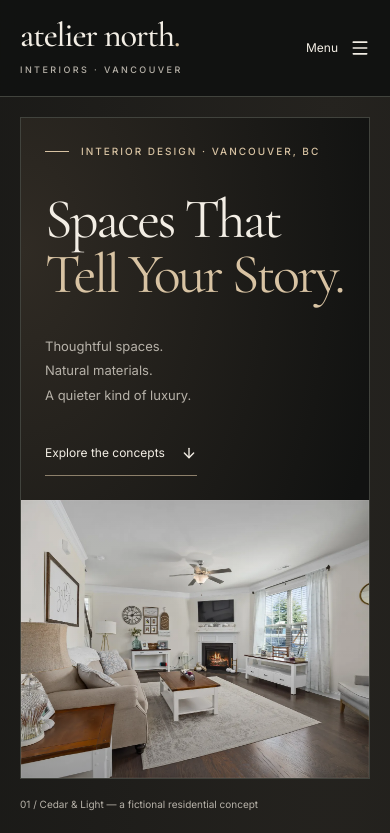
it: application shell and routes › closes the mobile navigation after navigating, including the current route
expect the heading "Spaces That Tell Your Story." is shown: met, box [45, 192, 343, 302]
Click the button with aria-label "Menu — Open navigation" at (326, 48), box [282, 26, 370, 70]
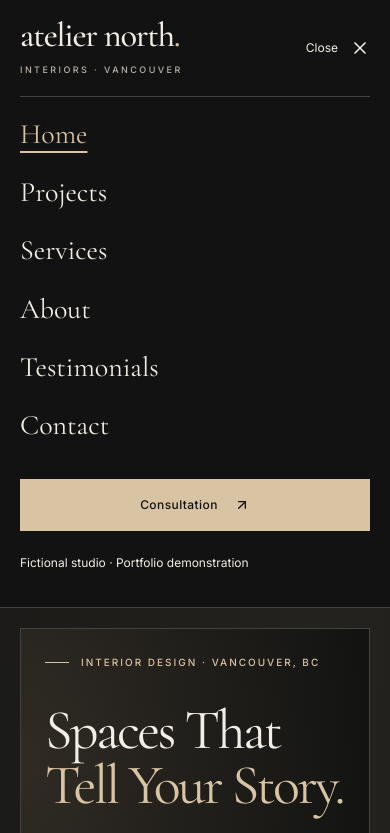
Click the link "Projects" at (64, 192), box [20, 175, 107, 209]
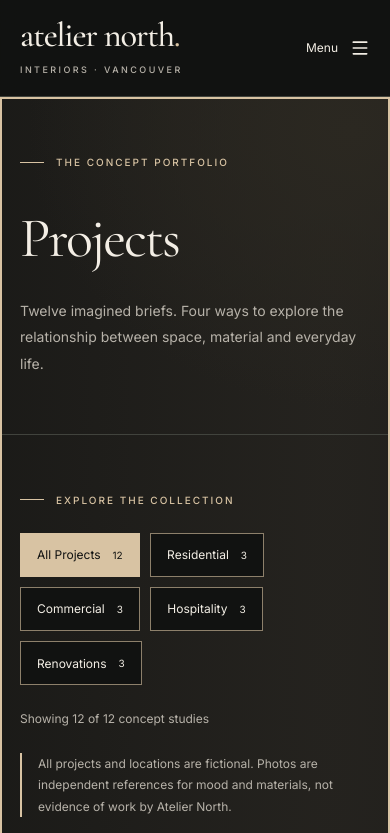
expect the heading "Projects" is shown: met, box [20, 204, 179, 272]
expect the button with aria-label "Menu — Open navigation" is collapsed: met
Click the button with aria-label "Menu — Open navigation" at (326, 48), box [282, 26, 370, 70]
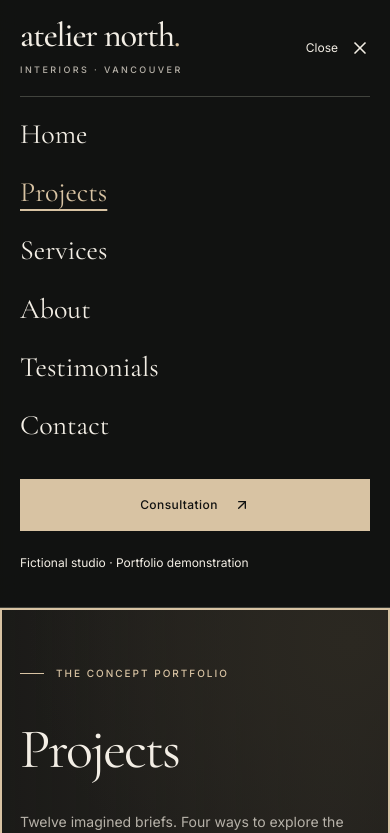
Click the link "Projects" at (64, 192), box [20, 175, 107, 209]
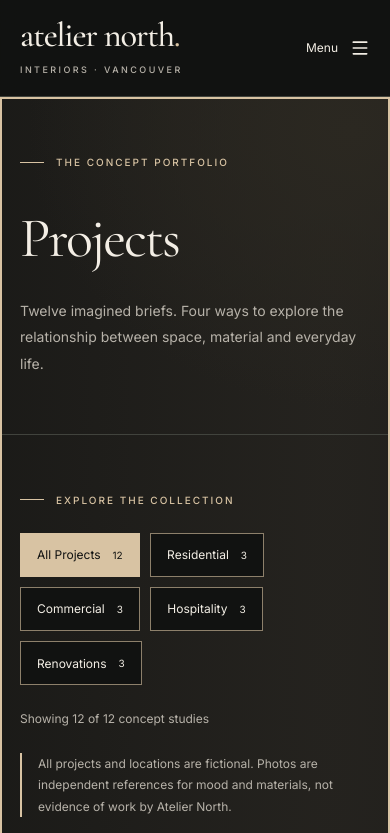
expect the navigation bar "Mobile" is gone: met
